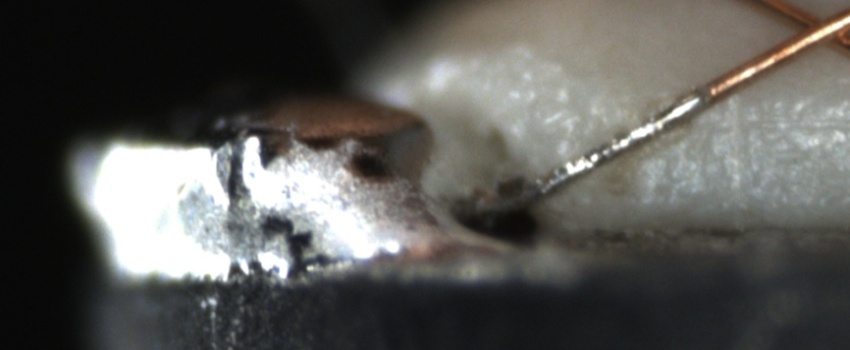CL: (772, 1, 849, 59)
DL: (688, 90, 850, 154)
TS: (533, 88, 711, 200)
TTCW: (466, 57, 765, 222)
